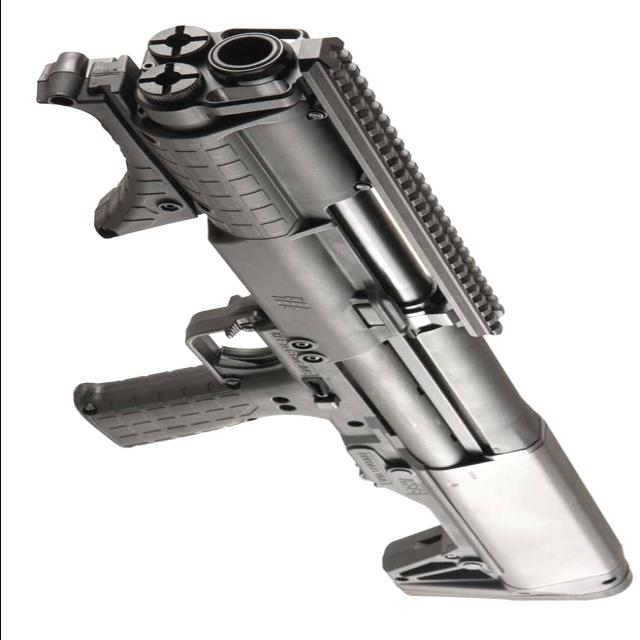long weapon: (16, 8, 640, 559)
